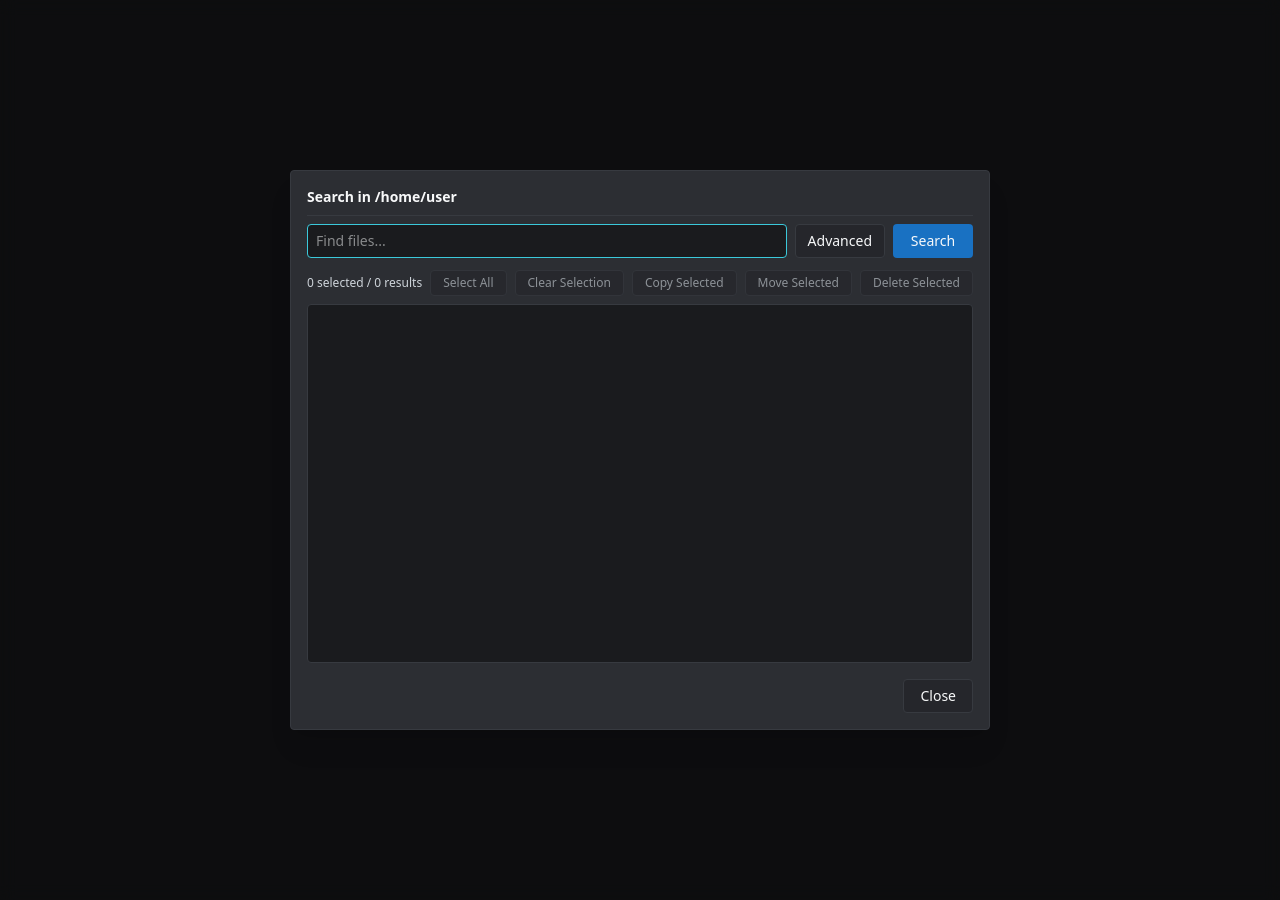
it: SearchPreviewDialogs › renders results returned from the search event stream
Type "notes" into the field with placeholder "Find files...".
click(547, 241); type("notes")  # box [307, 224, 787, 258]
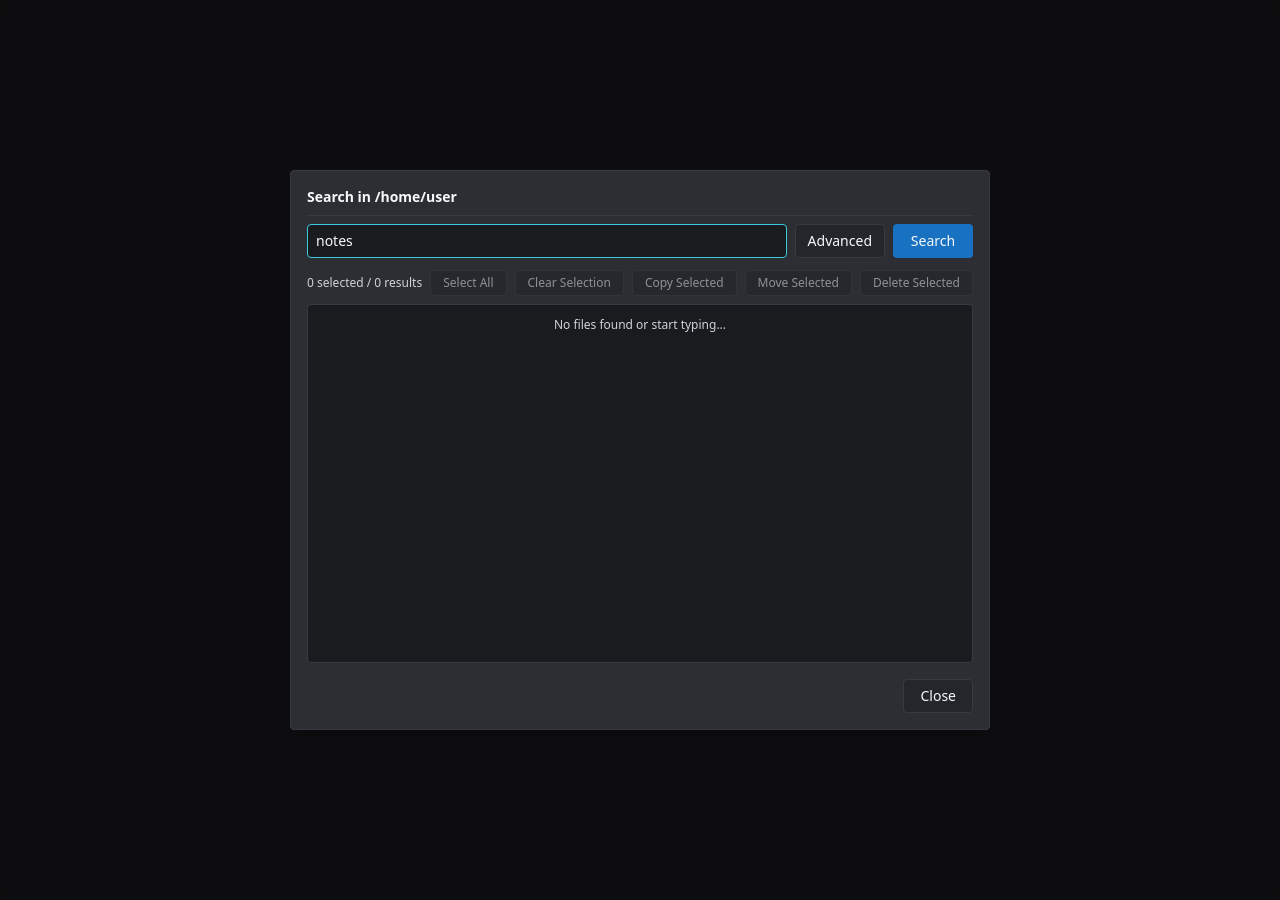
Click the button "Search".
click(933, 241)  # box [893, 224, 973, 258]
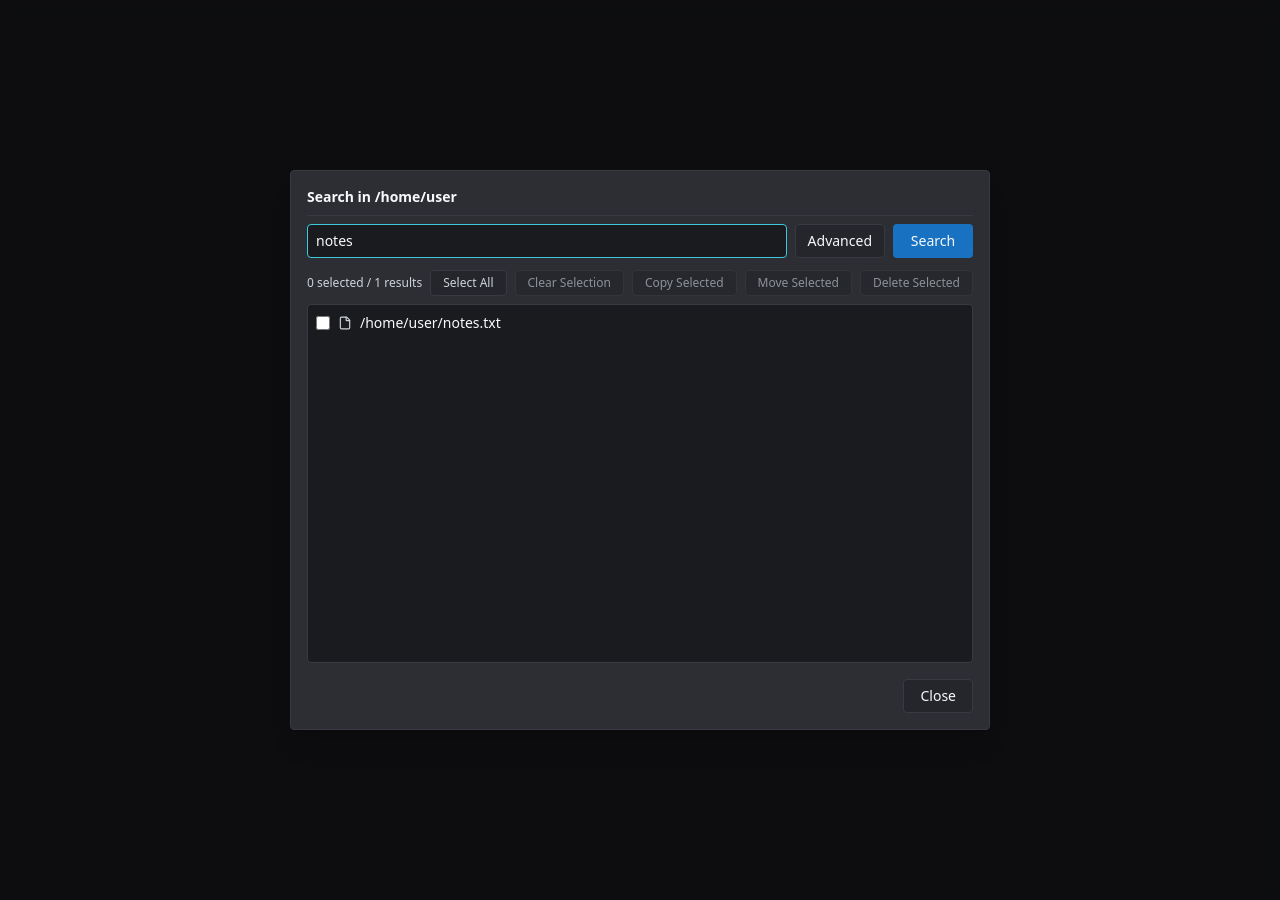
Result: the text "/home/user/notes.txt" is shown at [360, 313, 501, 333]
